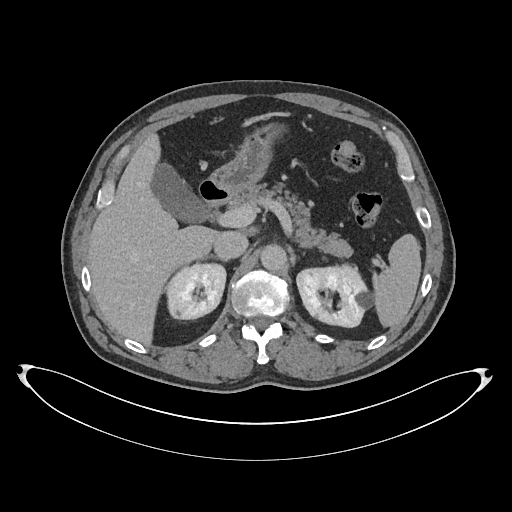Lesion: (352, 290, 379, 311)
